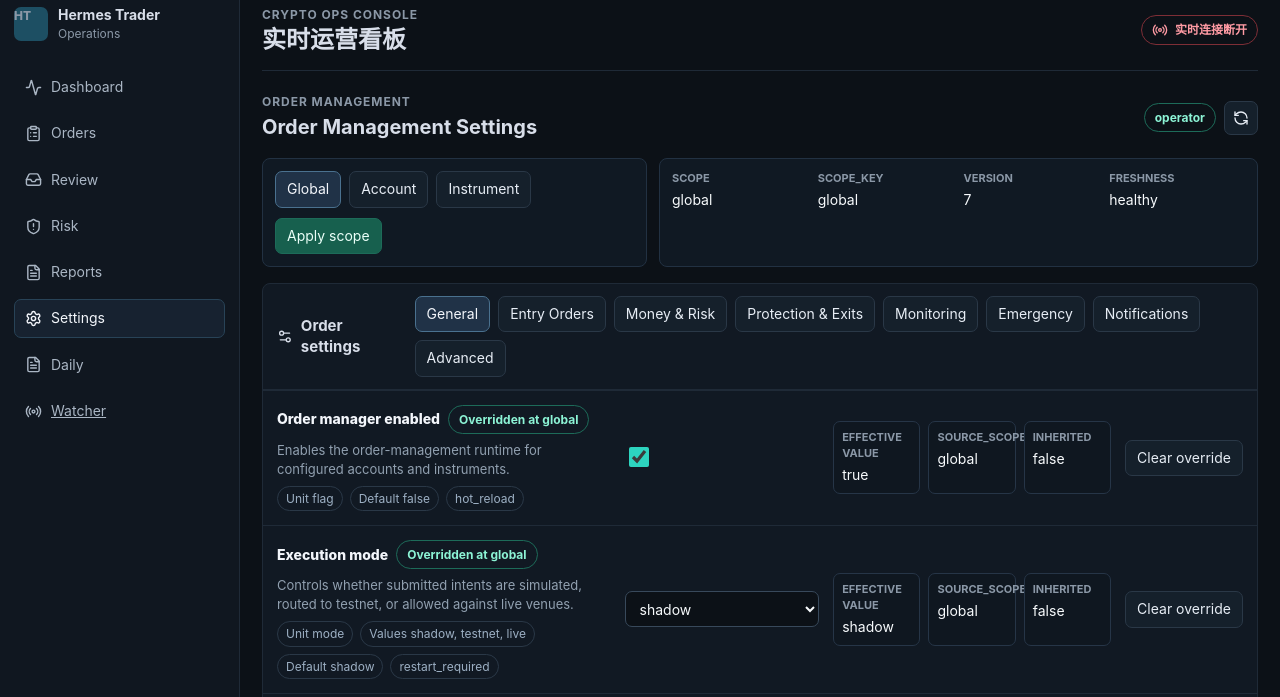
Test: order management settings › renders Monitoring fields and surfaces stale live freshness state
Click the tab "Monitoring" at [931, 314], box [883,296,978,332]
(page scrolled)
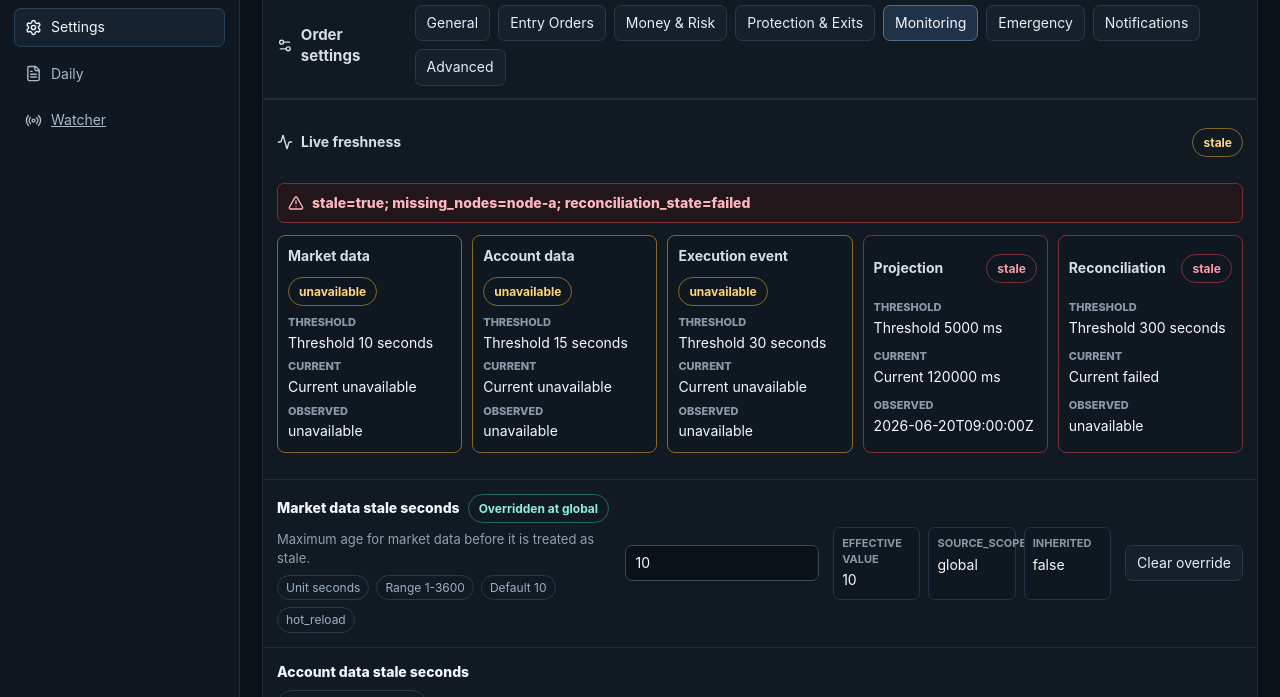
expect the message named "Monitoring freshness alert" reads "stale=true; missing_nodes=node-a; reconciliation_state=failed": met, box [312,194,750,211]
expect the element named "Market data freshness" shows "Threshold 10 seconds": met, box [277,235,462,453]
expect the element named "Account data freshness" shows "unavailable": met, box [494,284,561,299]
